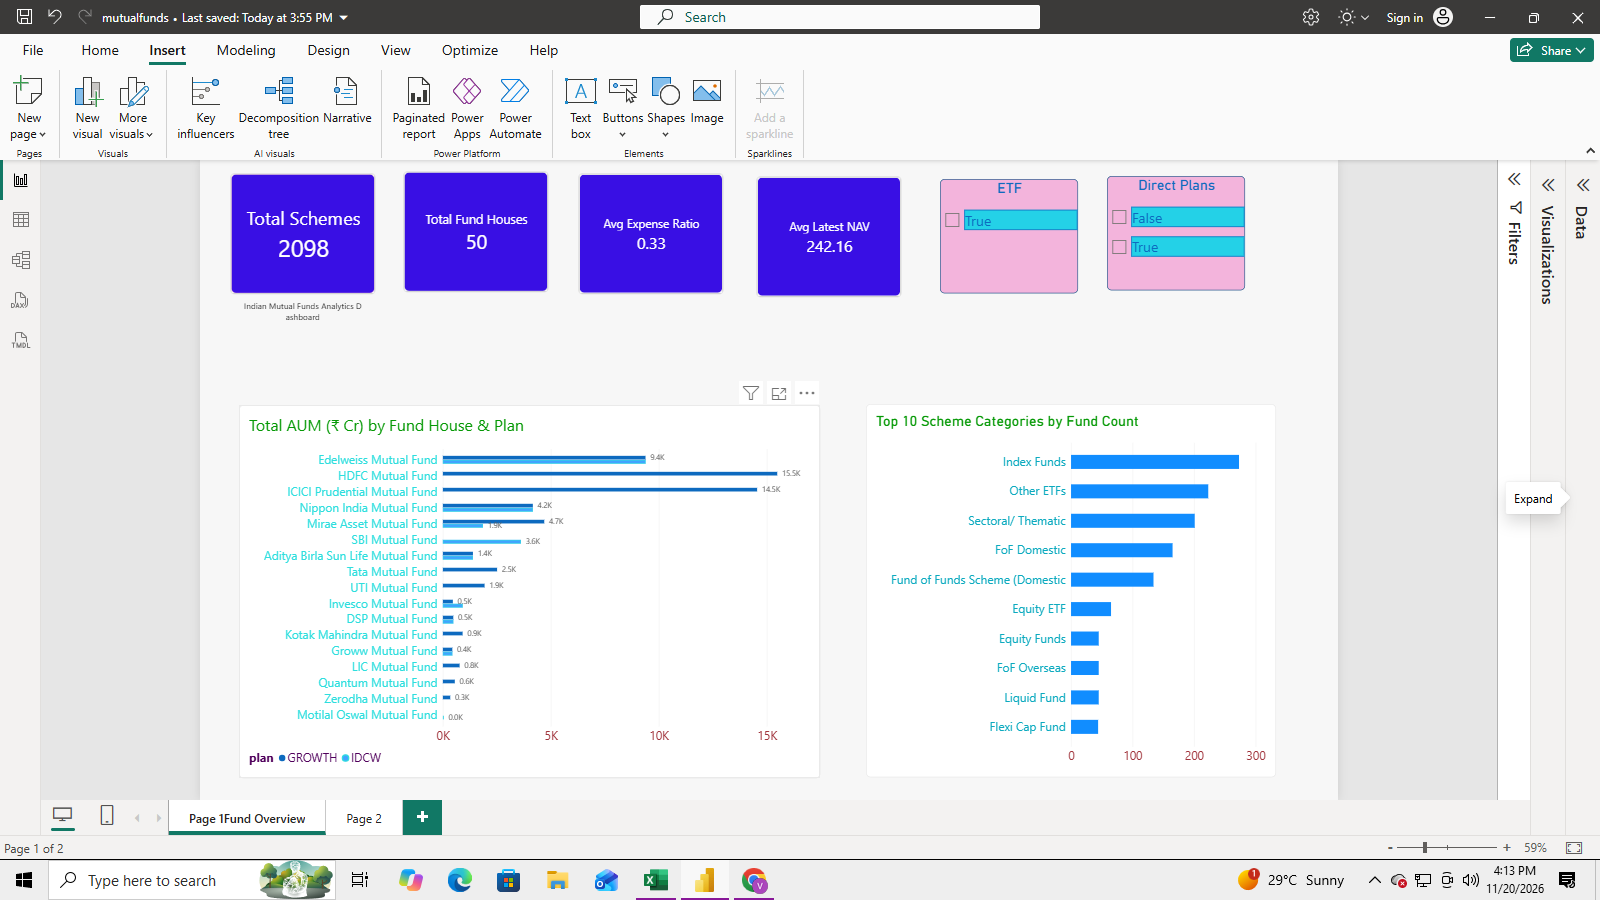

The page's visual inventory and layout, read from the dashboard file:
{"tool":"powerbi","page":{"name":"Page 1Fund Overview","canvas":[1920,1080],"ordinal":0},"visuals":[{"type":"clusteredBarChart","title":"Total AUM (₹ Cr) by Fund House & Plan","fields":{"Category":["funds.fund_house"],"Series":["funds.plan"],"Y":["Sum(funds.aum_cr)"]},"box":[65.7,413.4,981.2,629.7],"z":0},{"type":"cardVisual","fields":{"Data":["CountNonNull(funds.amfi_code)"]},"box":[50.2,21.2,246.1,205.4],"z":1000},{"type":"cardVisual","fields":{"Data":["Count(funds.fund_house)"]},"box":[343.1,19.3,246.1,205.4],"z":2000},{"type":"cardVisual","fields":{"Data":["Avg(funds.expense_ratio)"]},"box":[638.1,21.2,246.1,205.4],"z":3000},{"type":"cardVisual","fields":{"Data":["Avg(funds.nav_latest)"]},"box":[938.8,27,246.1,205.4],"z":4000},{"type":"clusteredBarChart","title":"Top 10 Scheme Categories by Fund Count","fields":{"Category":["funds.scheme_category"],"Y":["CountNonNull(funds.amfi_code)"]},"box":[1123.9,412.5,691.5,629.7],"z":5000},{"type":"slicer","title":"ETF","fields":{"Values":["funds.is_etf"]},"box":[1249.2,32.8,233.3,192.8],"z":6000},{"type":"slicer","title":"Direct Plans ","fields":{"Values":["funds.is_direct"]},"box":[1530.6,27,233.3,192.8],"z":6001},{"type":"textbox","box":[50,236,246,177],"z":6002}]}

Visuals, with their boxes on the page's 1920x1080 design canvas (x1, y1, x2, y2). These are canvas units, not pixel positions in the 1600x900 screenshot, which may show the page scaled, cropped or inside an application window:
"Total AUM (₹ Cr) by Fund House & Plan" clusteredBarChart: Rect(66, 413, 1047, 1043)
cardVisual - CountNonNull(funds.amfi_code): Rect(50, 21, 296, 227)
cardVisual - Count(funds.fund_house): Rect(343, 19, 589, 225)
cardVisual - Avg(funds.expense_ratio): Rect(638, 21, 884, 227)
cardVisual - Avg(funds.nav_latest): Rect(939, 27, 1185, 232)
"Top 10 Scheme Categories by Fund Count" clusteredBarChart: Rect(1124, 412, 1815, 1042)
"ETF" slicer: Rect(1249, 33, 1482, 226)
"Direct Plans " slicer: Rect(1531, 27, 1764, 220)
textbox: Rect(50, 236, 296, 413)
